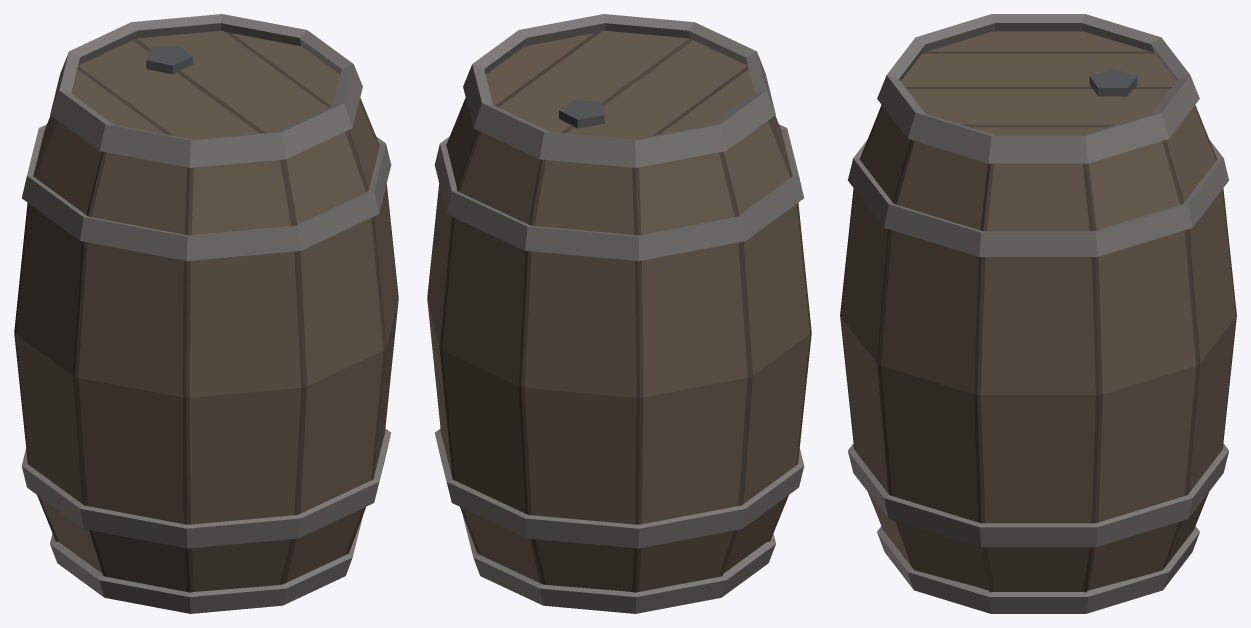
The model's file is SM_Props_Farm_Barrel_Wood.fbx.
3 renders of one model, left to right at view 1: azimuth 30°, elevation 25°; view 2: azimuth 150°, elevation 25°; view 3: azimuth 270°, elevation 25°, orthographic.
Visible parts, largest first — view 1: SM_Props_Farm_Barrel_Wood; view 2: SM_Props_Farm_Barrel_Wood; view 3: SM_Props_Farm_Barrel_Wood.
Part boxes in pixels (x1,y1,x2,y2): SM_Props_Farm_Barrel_Wood: [14, 14, 398, 613]; SM_Props_Farm_Barrel_Wood: [427, 14, 811, 613]; SM_Props_Farm_Barrel_Wood: [840, 14, 1236, 613].
Size of the model in its own units: 90.4 by 126 by 95.04.
